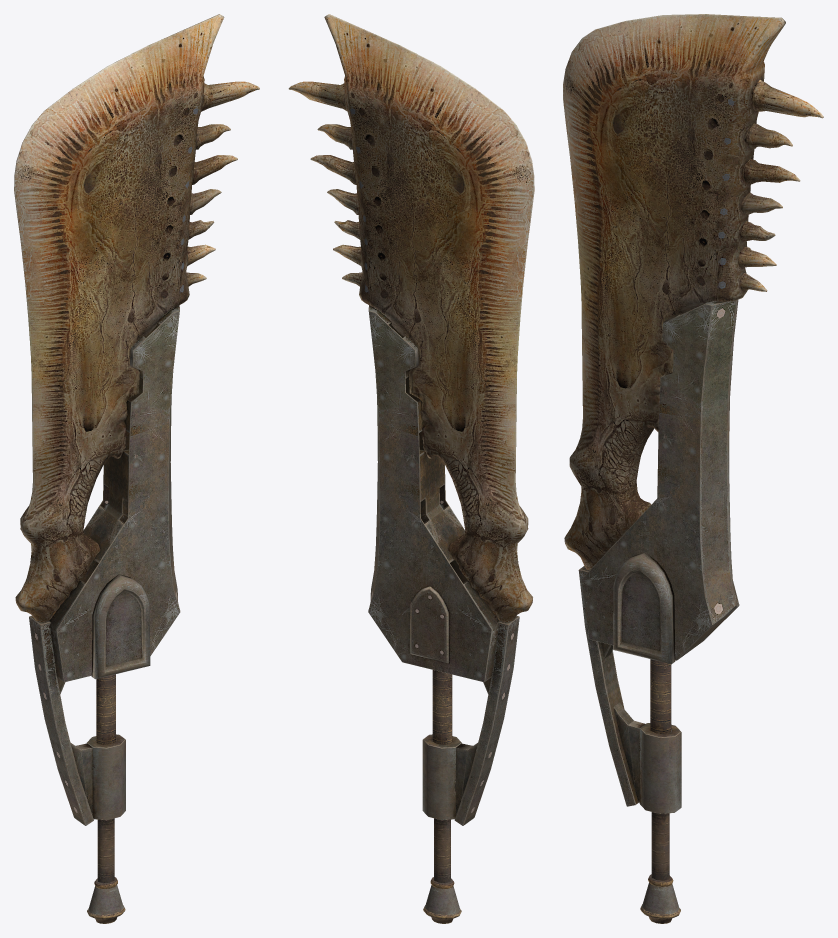
The model's file is bs_two006.obj.
3 views of the same model, side by side, from view 1: azimuth 30°, elevation 25°; view 2: azimuth 150°, elevation 25°; view 3: azimuth 330°, elevation 25° (orthographic). The views are drawn at different scales.
Visible parts, largest first — view 1: bs_two006_002_LOD_1, bs_two006_000_LOD_1, bs_two006_001_LOD_1; view 2: bs_two006_002_LOD_1, bs_two006_000_LOD_1, bs_two006_001_LOD_1; view 3: bs_two006_002_LOD_1, bs_two006_000_LOD_1, bs_two006_001_LOD_1.
Part boxes in pixels (box(x1,y1,x2,y2)): bs_two006_002_LOD_1: box(14, 14, 259, 621); bs_two006_000_LOD_1: box(29, 305, 180, 923); bs_two006_001_LOD_1: box(86, 734, 125, 915); bs_two006_002_LOD_1: box(288, 14, 534, 621); bs_two006_000_LOD_1: box(368, 305, 519, 923); bs_two006_001_LOD_1: box(422, 734, 461, 915); bs_two006_002_LOD_1: box(563, 14, 823, 570); bs_two006_000_LOD_1: box(578, 300, 739, 923); bs_two006_001_LOD_1: box(639, 723, 681, 914).
Bounding box in the file's own units: 77.72 × 265 × 18.36.
